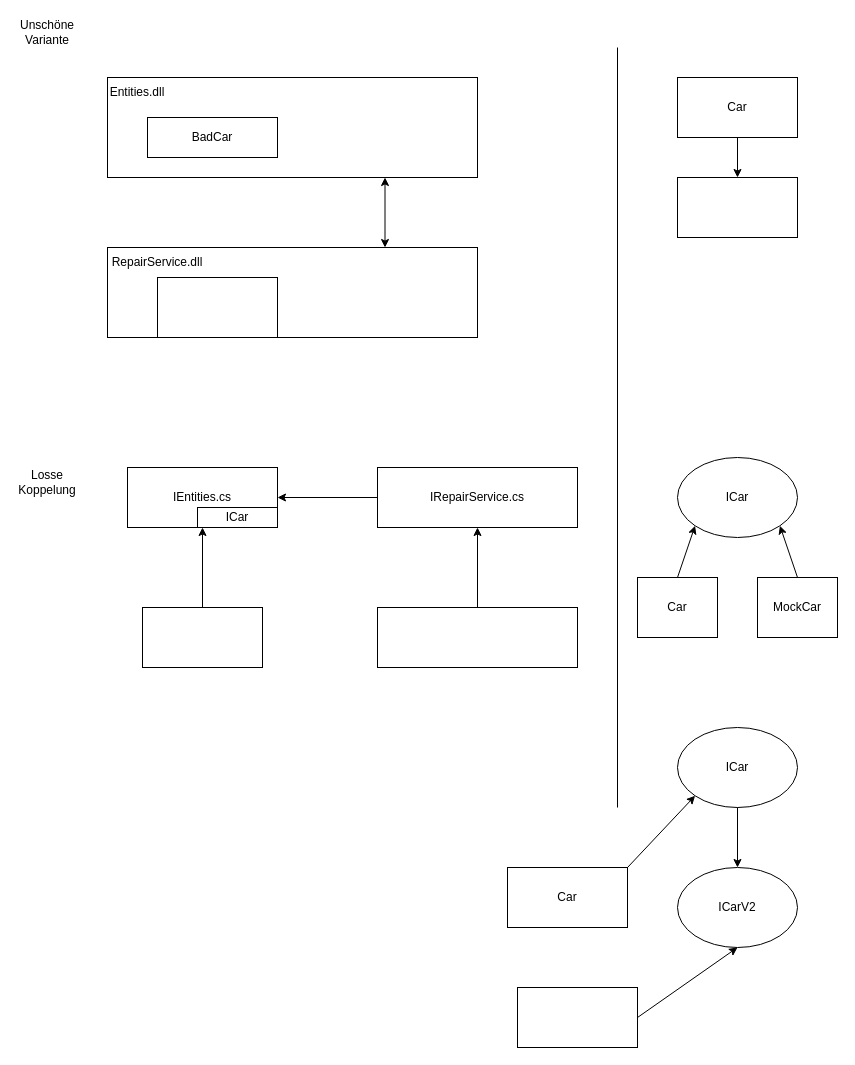
Some shapes in this 855 by 1065 pixel diagram are drawn without their labels. Each missing label, with the centre of its shape:
BadCarService: point 217,307
Car.cs: point 202,637
CarExtendedClass: point 737,207
CarService.cs: point 477,637
CarV2: point 577,1017
